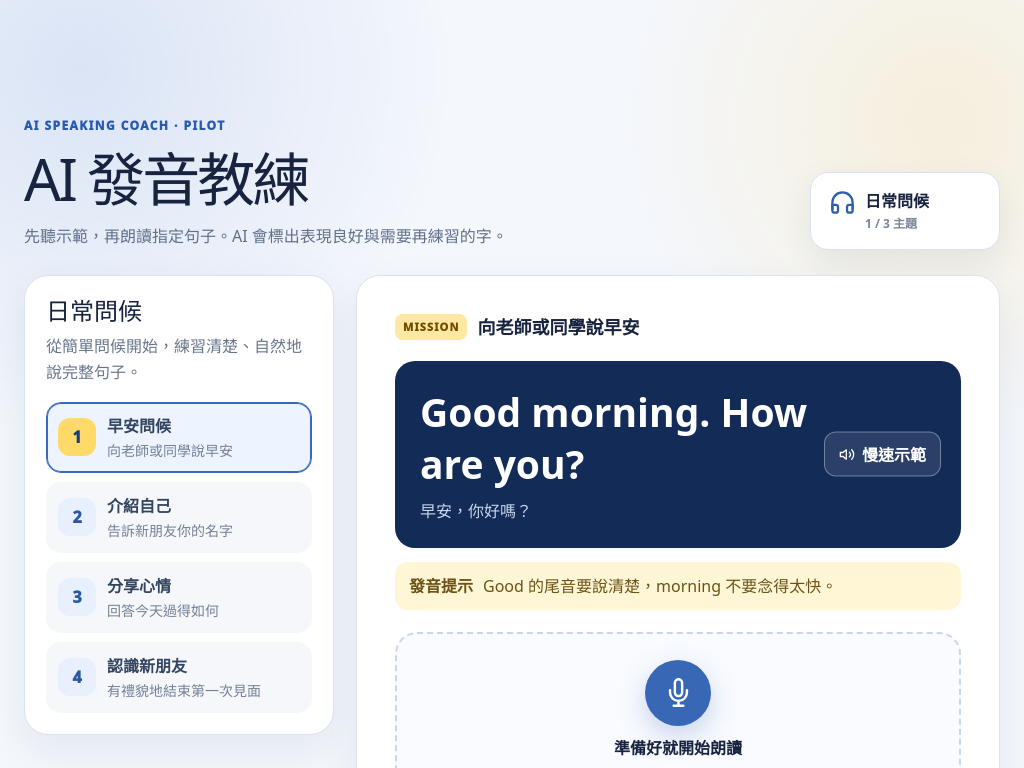
it: PronunciationCoach › 切換關卡時同步更新任務、句子與提示
The width and height of the screenshot is (1024, 768).
Click the button "4 認識新朋友 有禮貌地結束第一次見面". click: (179, 677)
box: [46, 642, 312, 713]
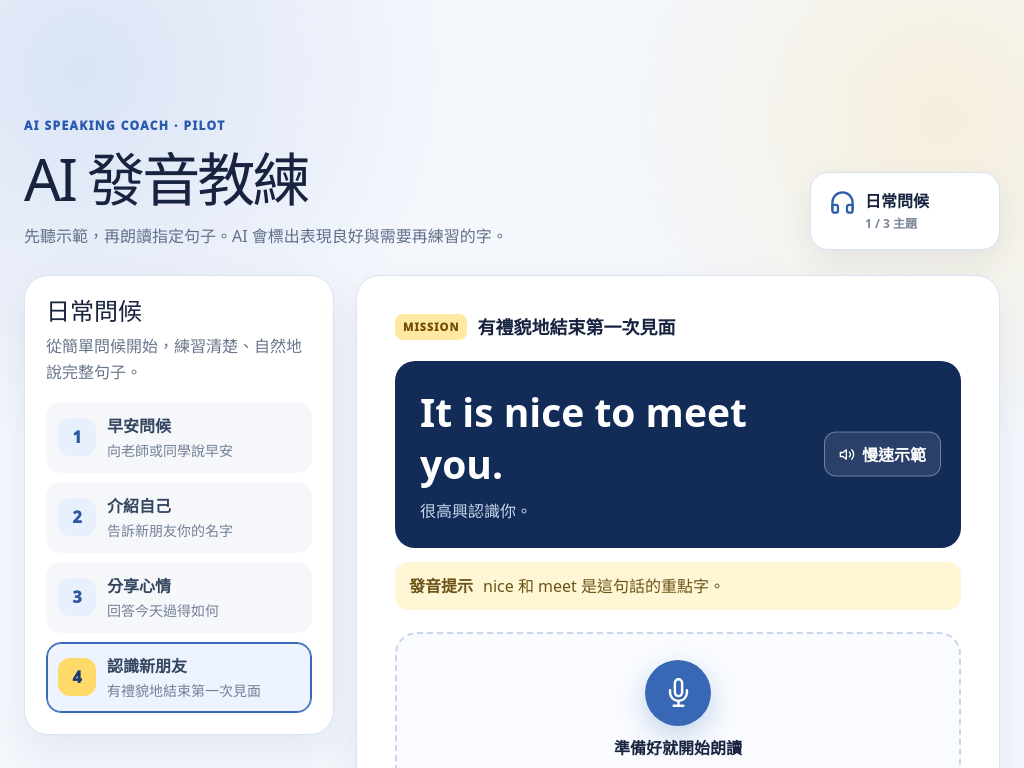
expect the text "It is nice to meet you." is shown: met, box [420, 385, 747, 490]
expect the text "很高興認識你。" is shown: met, box [420, 500, 532, 522]
expect the text "nice 和 meet 是這句話的重點字。" is shown: met, box [483, 574, 725, 598]
